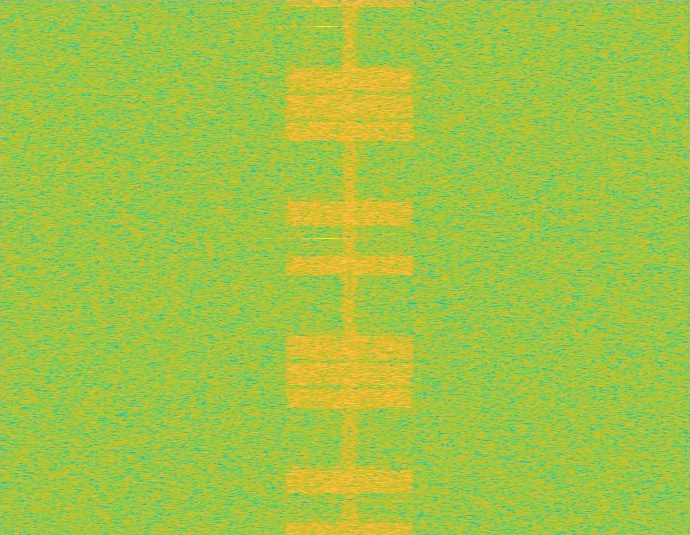DSSS: (340, 0, 359, 534)
LTE: (281, 0, 419, 534)
Radar: (320, 0, 334, 534)
